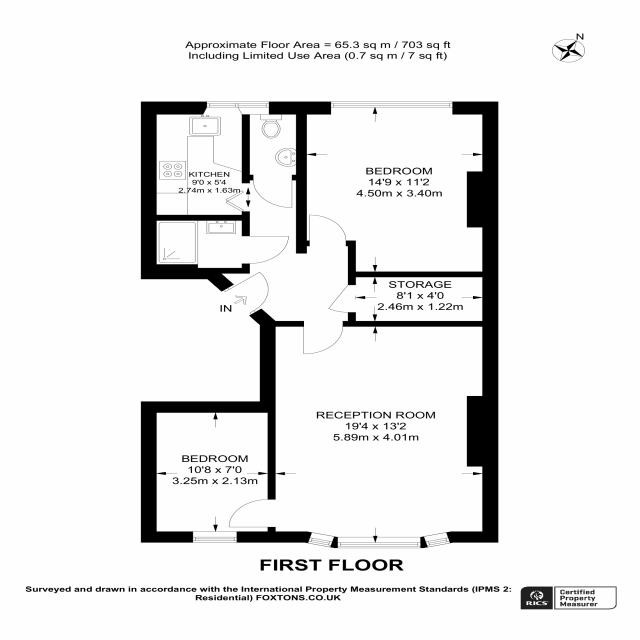DOOR: (220, 270, 270, 317), (300, 320, 345, 356), (251, 174, 294, 210), (227, 498, 276, 529), (241, 234, 291, 264), (308, 214, 347, 246)
ROOM: (227, 320, 499, 549), (296, 101, 499, 277), (140, 401, 276, 543), (140, 101, 250, 221)
WINDOW: (335, 535, 423, 549), (330, 101, 454, 108), (191, 530, 239, 544), (305, 531, 337, 549), (421, 531, 452, 549), (205, 101, 271, 109)
